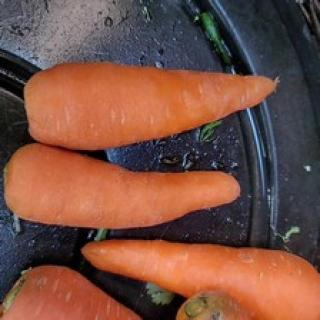carrot: (23, 62, 279, 146), (5, 144, 242, 228), (83, 240, 319, 320)
